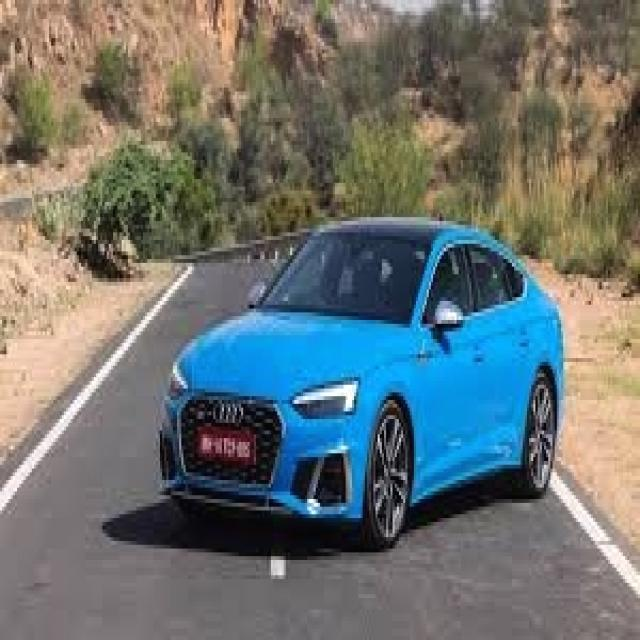blue: (162, 216, 560, 546)
